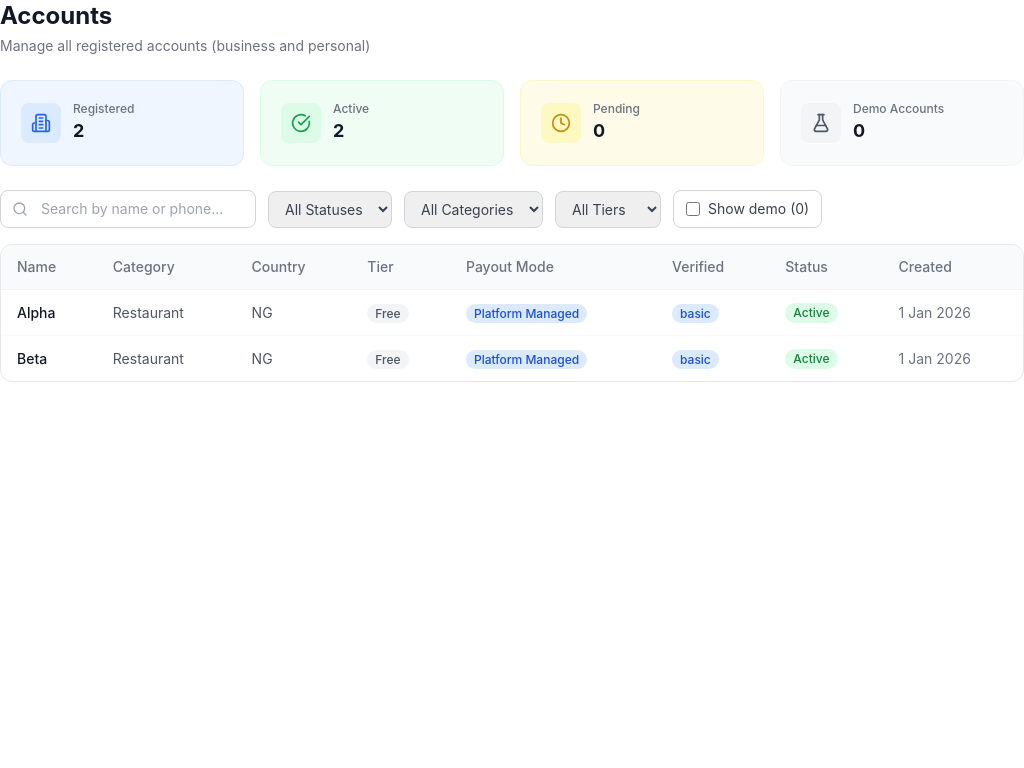
persisted admin save truth › renders returned profile value rather than submitted draft, and uses authenticated API
Click the text "Alpha": (36, 312) [17,304,56,320]
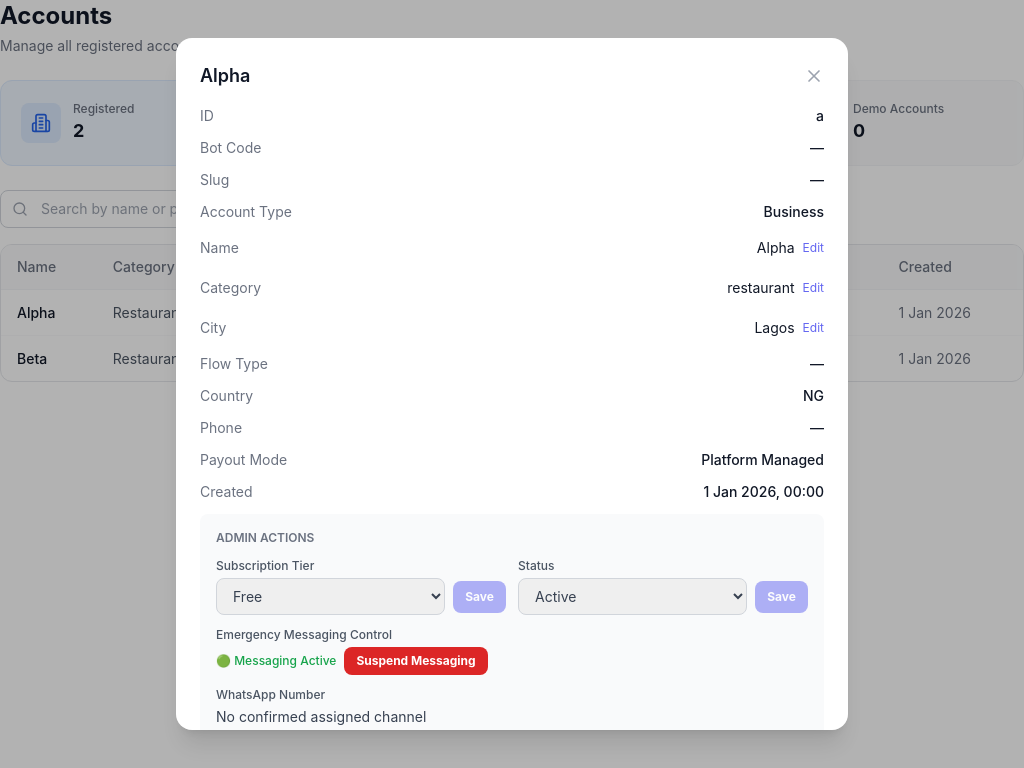
Click the button with aria-label "Edit name": (813, 248) [803,240,824,256]
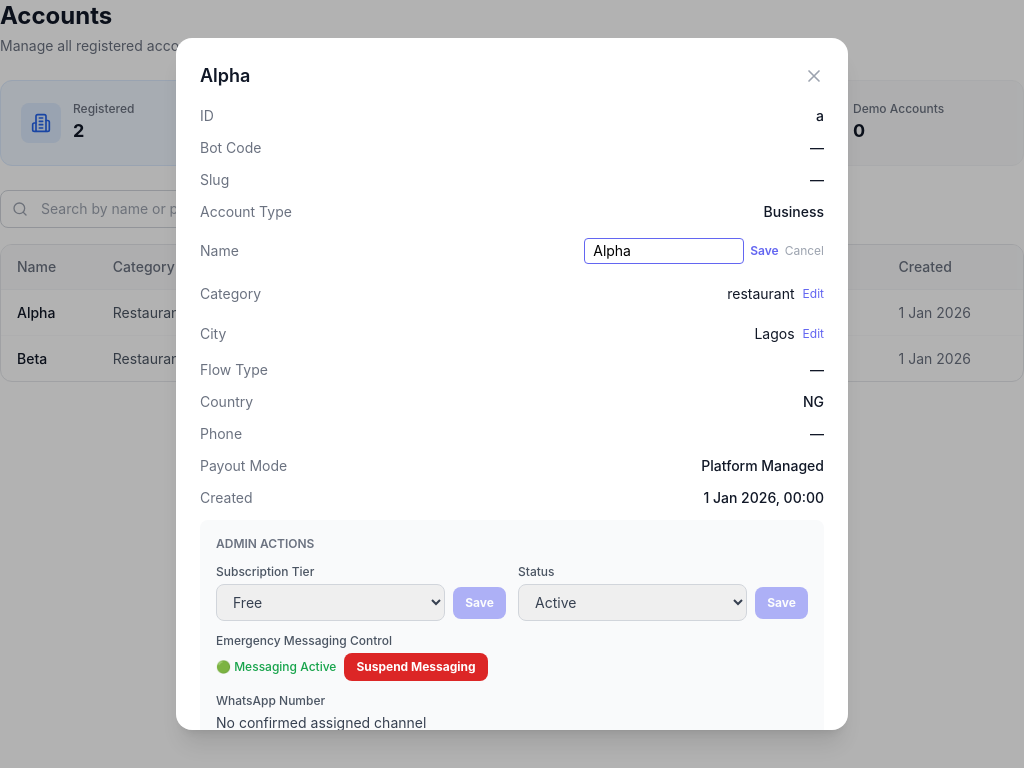
Replace the text in the field named "Edit name" with "Draft": (664, 251) [584,238,744,264]
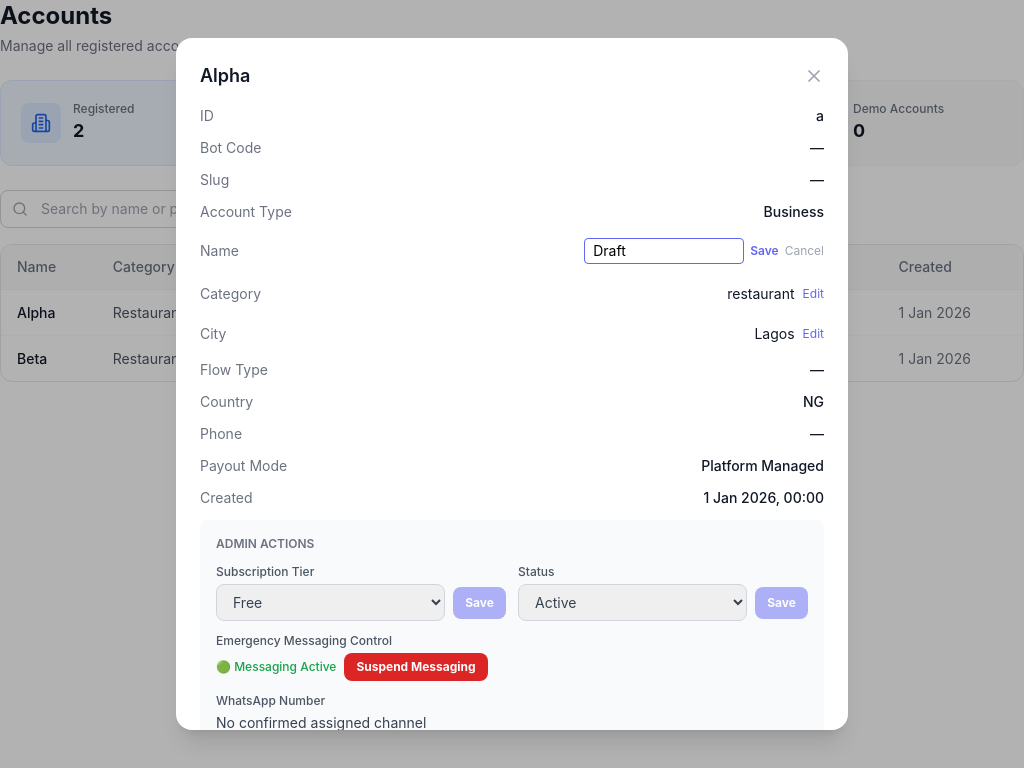
Click the 1st button "Save": (764, 251) [750,243,779,259]
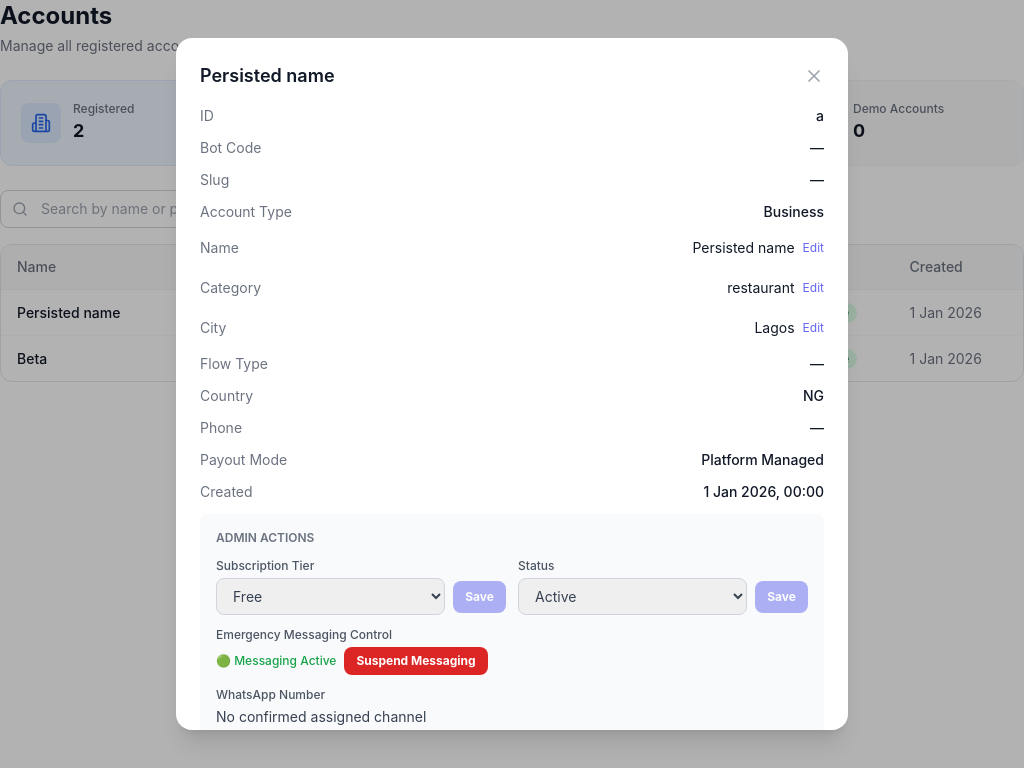
Result: the heading "Persisted name" is shown at [200,62,334,90]
